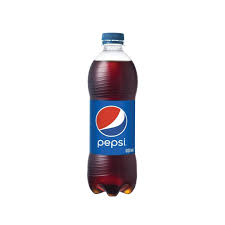pepsi: (87, 32, 138, 197)
